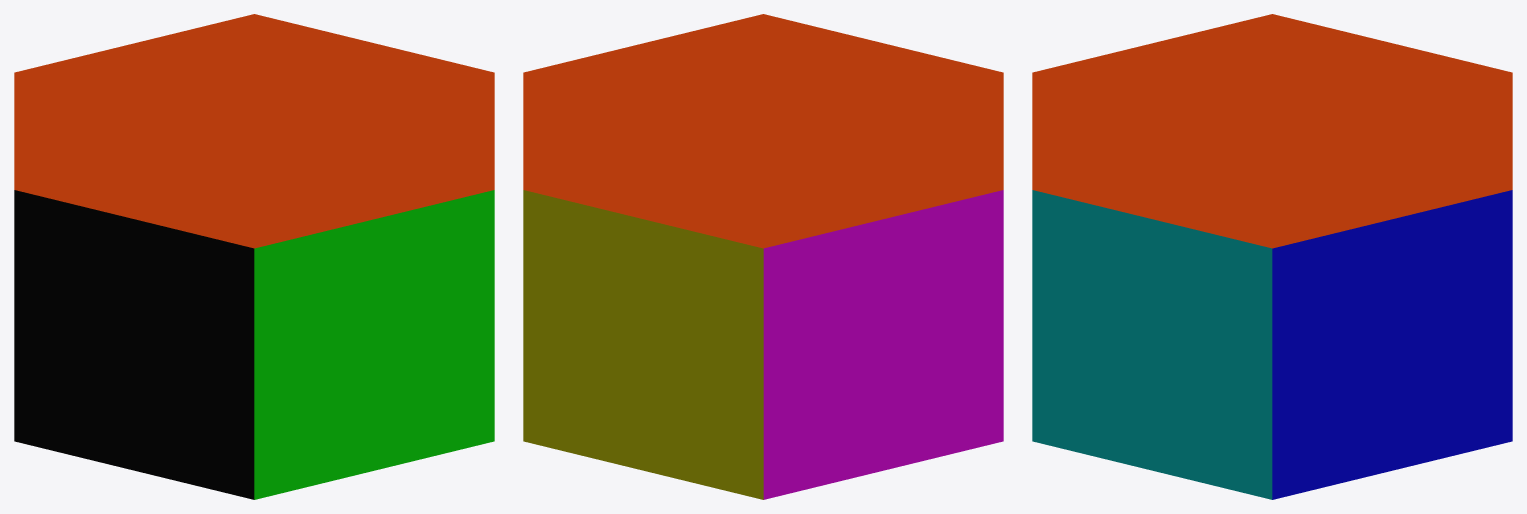
File: hex.obj
3 views of the same model, side by side, from view 1: azimuth 30°, elevation 25°; view 2: azimuth 150°, elevation 25°; view 3: azimuth 270°, elevation 25° (orthographic).
Visible parts, largest first — view 1: Cube_Cube.001; view 2: Cube_Cube.001; view 3: Cube_Cube.001.
Part boxes in pixels (bbox=[...]): Cube_Cube.001: bbox=[14, 14, 494, 499]; Cube_Cube.001: bbox=[523, 14, 1003, 499]; Cube_Cube.001: bbox=[1032, 14, 1512, 499].
Size of the model in its own units: 2 by 1 by 1.73.
